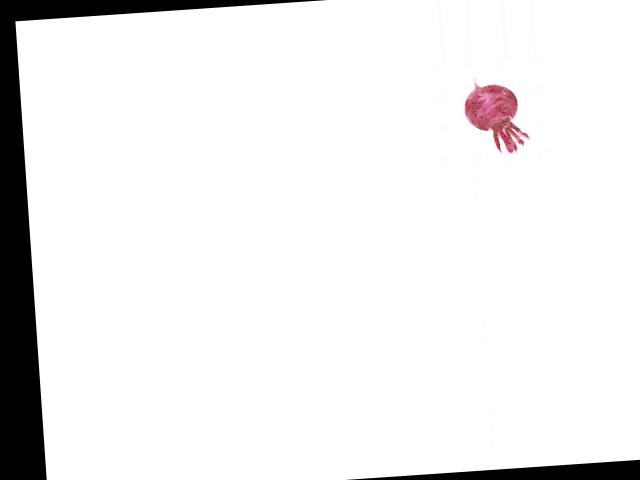beet: (461, 72, 530, 156)
